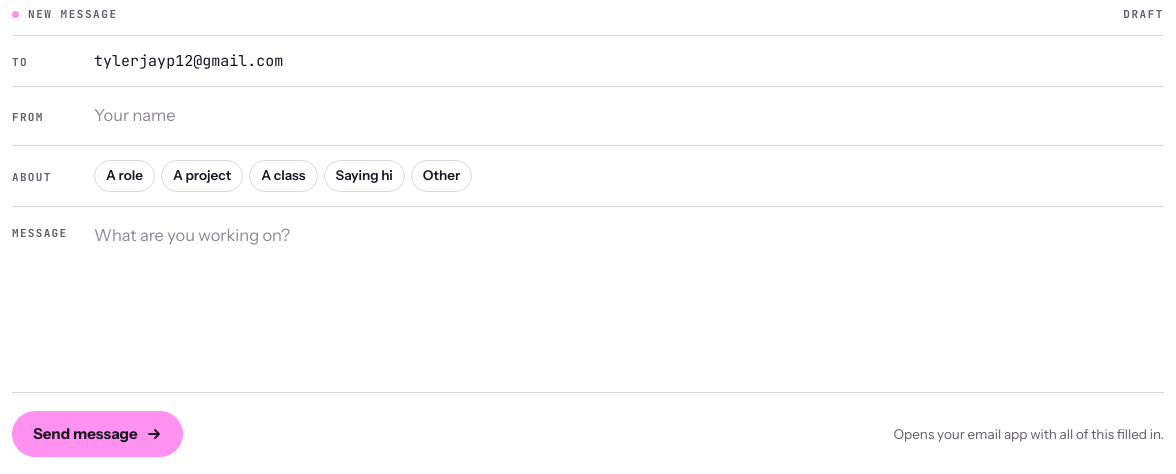
Scenario: <MessageForm> › builds the email from what was typed
In the field labelled "From": coordinates (629, 116) [94,101,1164,131], type "Sam"
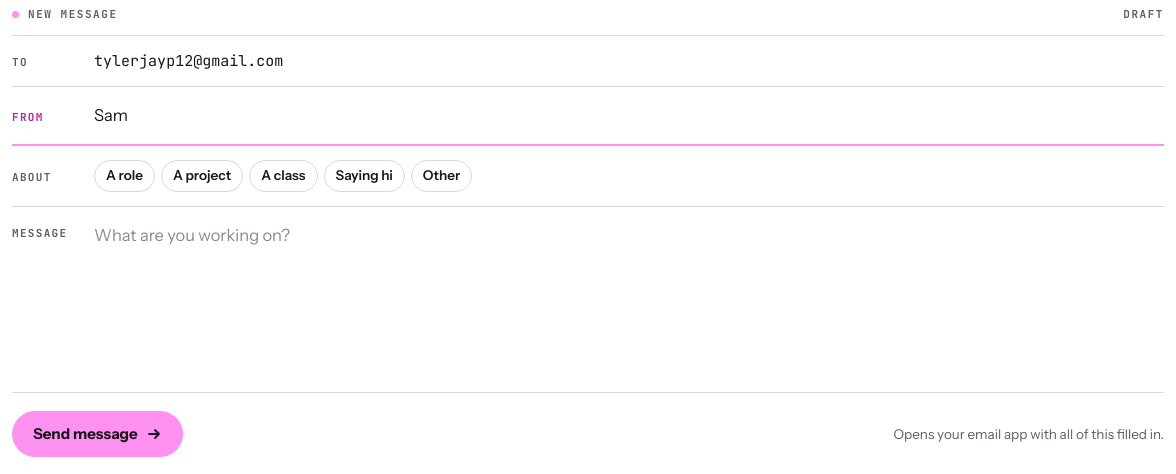
Click the button "A role": coordinates (124, 176) [94,160,155,192]
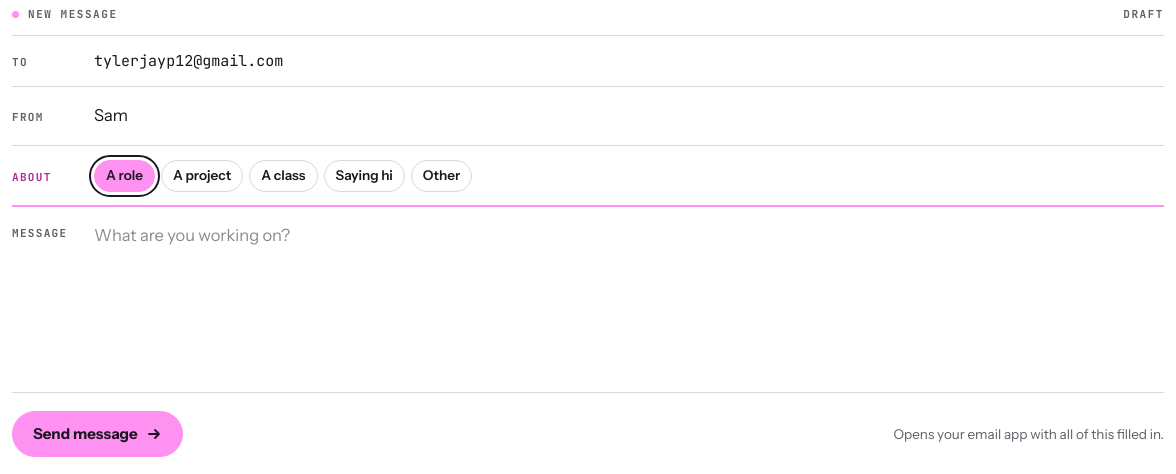
In the text box labelled "Message": coordinates (629, 299) [94,221,1164,378], type "We are hiring"
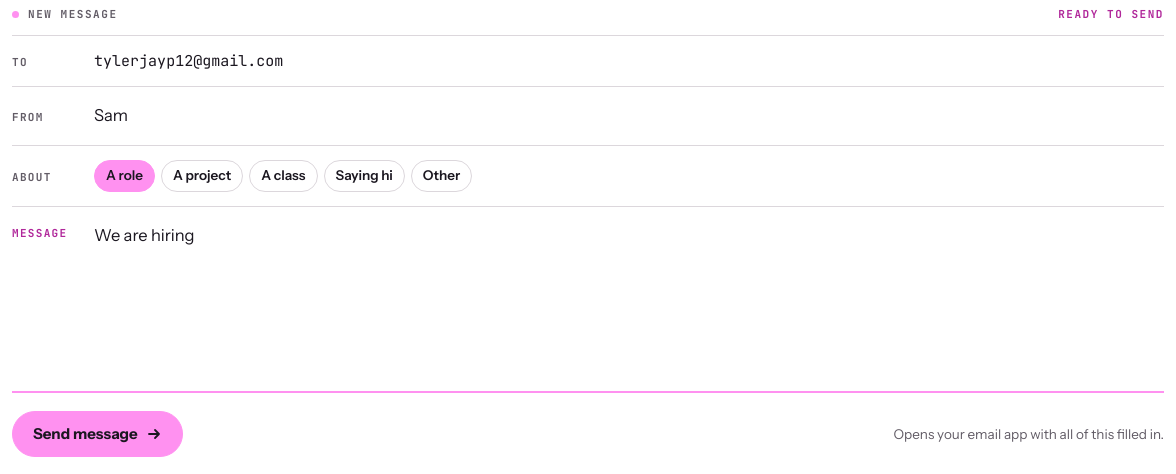
Expected: the text "Ready to send" is shown, [1058,6,1164,22]
